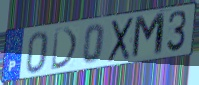0: (25, 30, 50, 75), (81, 23, 106, 66)
3: (166, 9, 189, 54)
D: (50, 26, 80, 72)
M: (130, 10, 167, 61)
X: (106, 15, 136, 65)
